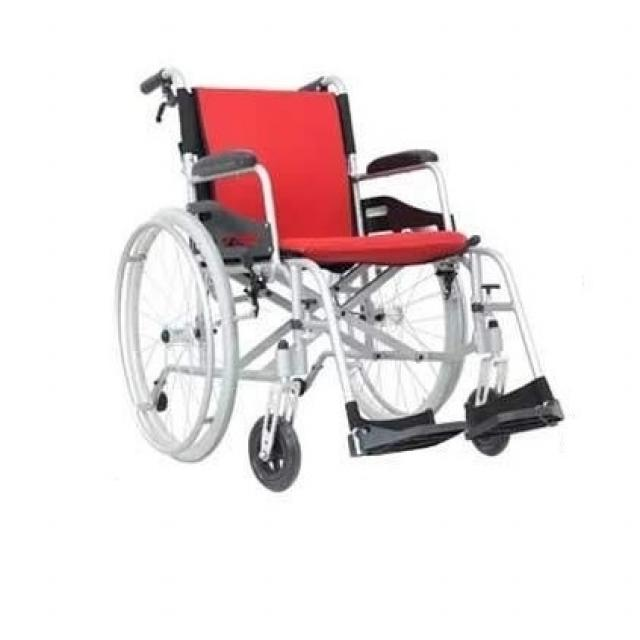wheelchair: (113, 38, 566, 504)
